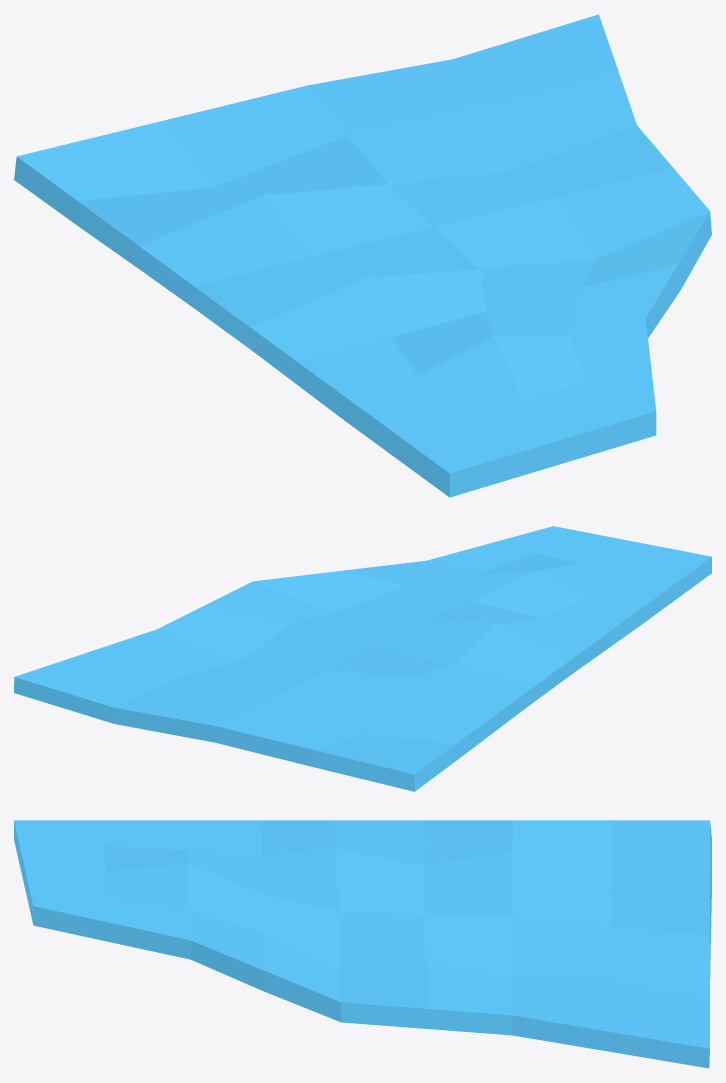
Rendered from object_38_lev1.glb.
The picture shows the model from 3 angles, top to bottom: view 1: azimuth 30°, elevation 25°; view 2: azimuth 150°, elevation 25°; view 3: azimuth 270°, elevation 25°; orthographic projection. The views are drawn at different scales.
Visible parts, largest first — view 1: object_38_lev1; view 2: object_38_lev1; view 3: object_38_lev1.
Boxes of the visible parts, x1,y1,x2,y2 form: object_38_lev1: [14, 14, 711, 497]; object_38_lev1: [14, 526, 711, 791]; object_38_lev1: [14, 820, 711, 1068].
Bounding box in the file's own units: 2.53 × 0.2645 × 3.26.
Materials: 1 (1 with a texture image).
